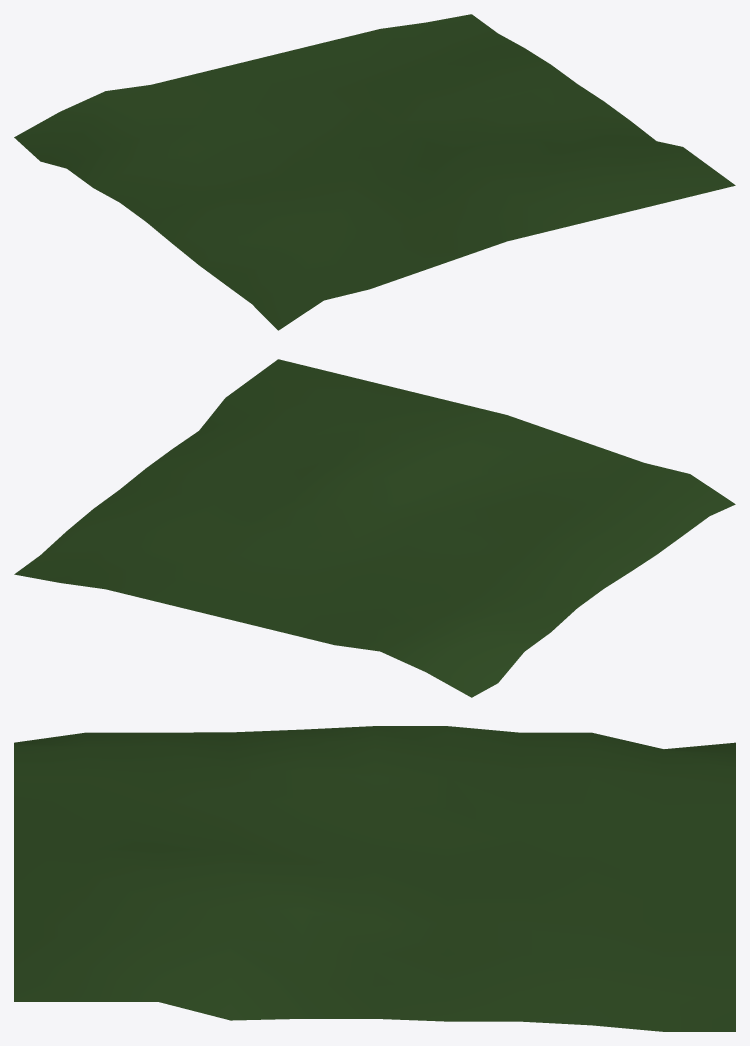
3 views of the same model, one above another, from view 1: azimuth 30°, elevation 25°; view 2: azimuth 150°, elevation 25°; view 3: azimuth 270°, elevation 25° (orthographic). The views are drawn at different scales.
Visible parts, largest first — view 1: TerrainModel.079; view 2: TerrainModel.079; view 3: TerrainModel.079.
Part boxes in pixels (x1=…): TerrainModel.079: x1=14, y1=14, x2=735, y2=330; TerrainModel.079: x1=14, y1=359, x2=735, y2=697; TerrainModel.079: x1=14, y1=726, x2=735, y2=1031.
Bounding box in the file's own units: 19608 × 1765 × 19608.
